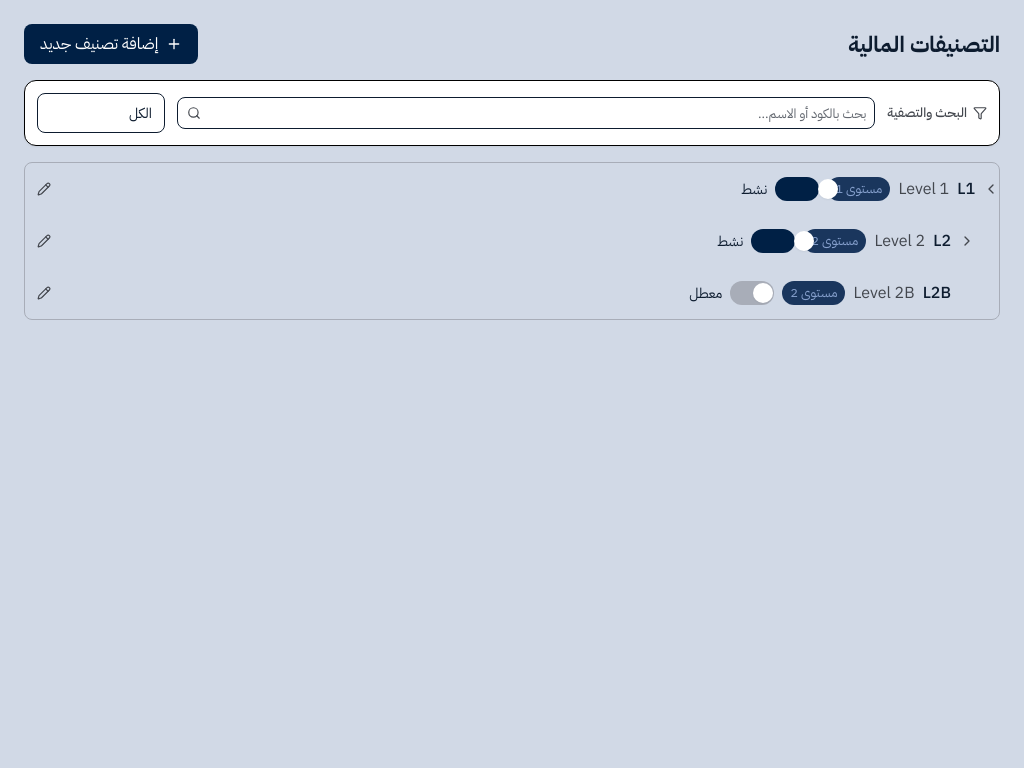
Test: T039: Toggle confirmation, success toast, RowVersion conflict › toggle opens confirmation dialog
Click the switch in the row of "Level 1" at x=797, y=189, box [775, 177, 819, 201]
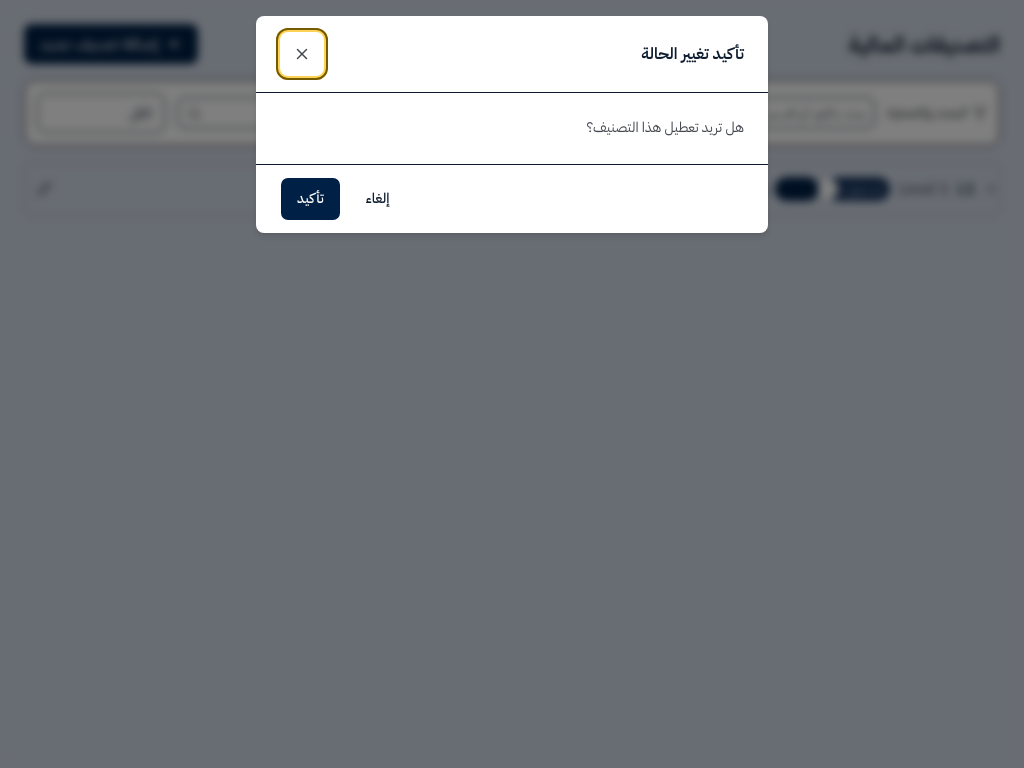
Expected: the heading "تأكيد تغيير الحالة" is shown, [641, 42, 744, 66]
Expected: the text "هل تريد تعطيل هذا التصنيف؟" is shown, [586, 117, 744, 138]
